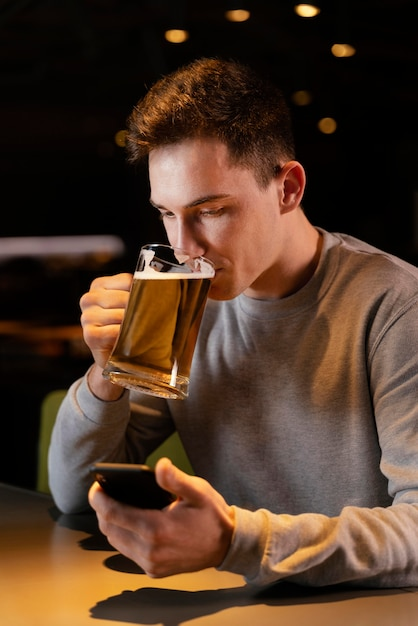alcohol: (99, 241, 220, 401)
